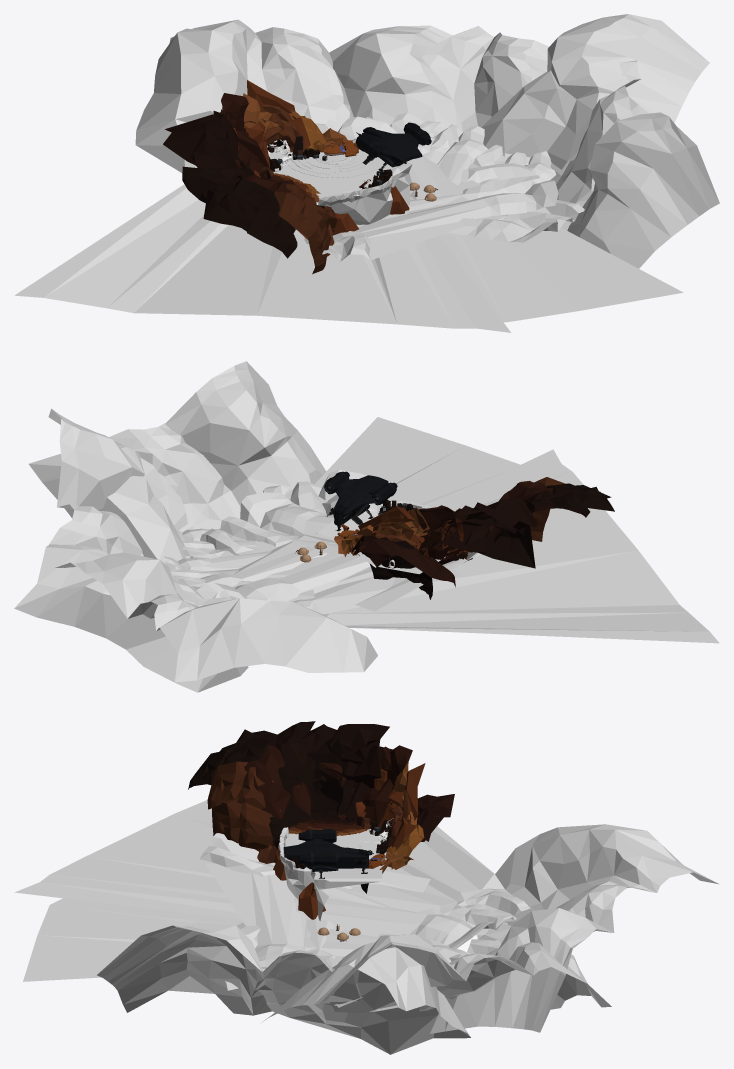
The model's file is PostBossRoom.fbx.
3 renders of one model, top to bottom at view 1: azimuth 30°, elevation 25°; view 2: azimuth 150°, elevation 25°; view 3: azimuth 270°, elevation 25°, orthographic. The views are drawn at different scales.
Parts seen in each view (by area): view 1: Dunes, Wall, Floor255, BaseLegsWings, GroundCircles, Platform_Borders, EngineWeapons; view 2: Dunes, Wall, BaseLegsWings, EngineWeapons, Floor255; view 3: Dunes, Wall, Floor255, BaseLegsWings, EngineWeapons, stairs.
Boxes of the visible parts, box(x1,y1,x2,y2) form: Dunes: box(14, 14, 719, 332); Wall: box(163, 80, 409, 274); Floor255: box(269, 149, 409, 224); BaseLegsWings: box(362, 127, 422, 171); GroundCircles: box(283, 154, 377, 177); Platform_Borders: box(318, 161, 412, 205); EngineWeapons: box(355, 122, 431, 157); Dunes: box(14, 361, 719, 692); Wall: box(334, 477, 614, 599); BaseLegsWings: box(332, 475, 388, 531); EngineWeapons: box(324, 471, 397, 519); Floor255: box(316, 513, 476, 574); Dunes: box(14, 800, 719, 1054); Wall: box(188, 721, 454, 919); Floor255: box(283, 829, 387, 920); BaseLegsWings: box(283, 840, 368, 878); EngineWeapons: box(298, 829, 374, 866); stairs: box(288, 817, 367, 835).
Bounding box in the file's own units: 147 × 41.74 × 134.
